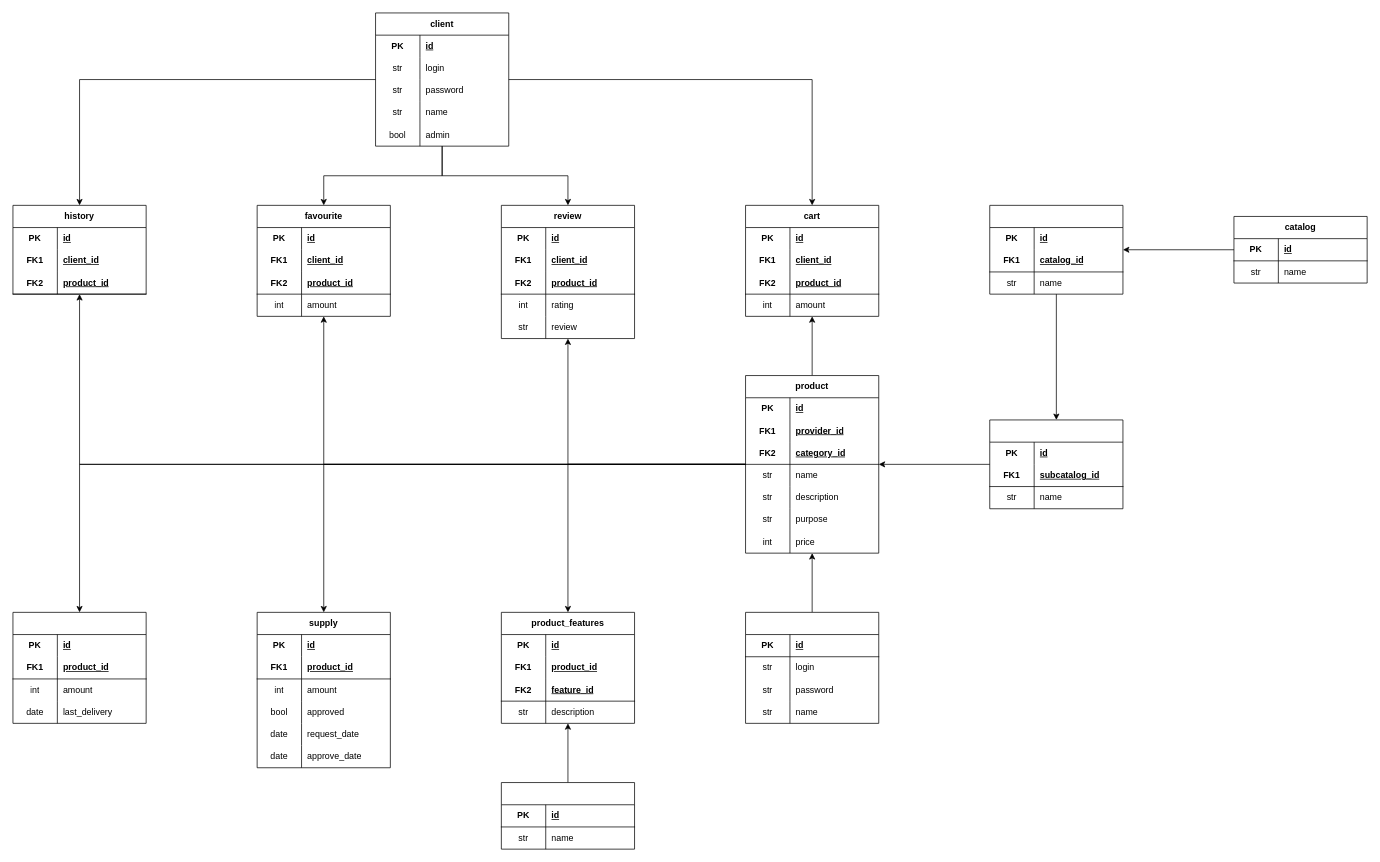
The diagram is 1380 pixels wide and 862 high, and some of its shapes have lost their labels. The shapes that lost their labels are listed below. From the top down, each one's box as (x1, y1, x2, y2) in pixels, then its label:
(989, 205, 1123, 294): subcatalog
(989, 419, 1123, 509): category
(12, 612, 146, 723): storage
(745, 612, 879, 723): provider
(501, 782, 635, 849): feature
